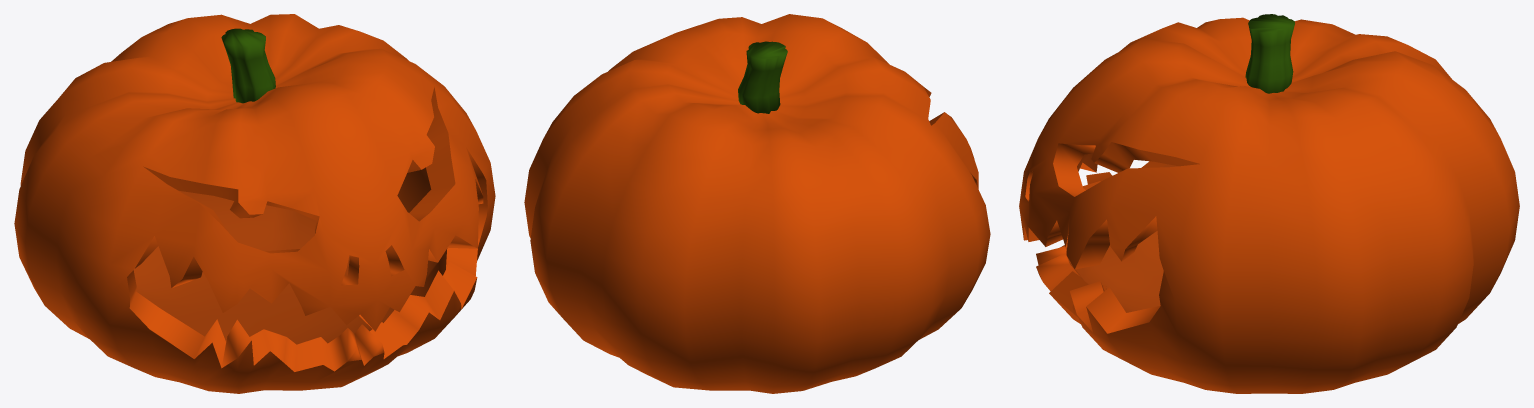
The model's file is Jack-o’-lantern_1.fbx.
The picture shows the model from 3 angles, left to right: view 1: azimuth 30°, elevation 25°; view 2: azimuth 150°, elevation 25°; view 3: azimuth 270°, elevation 25°; orthographic projection. The views are drawn at different scales.
Parts seen in each view (by area): view 1: Jack-o’-lantern 1; view 2: Jack-o’-lantern 1; view 3: Jack-o’-lantern 1.
Part boxes in pixels (bbox=[...]): Jack-o’-lantern 1: bbox=[14, 14, 495, 393]; Jack-o’-lantern 1: bbox=[524, 14, 990, 393]; Jack-o’-lantern 1: bbox=[1019, 14, 1519, 393].
Size of the model in its own units: 149 by 108 by 154.
